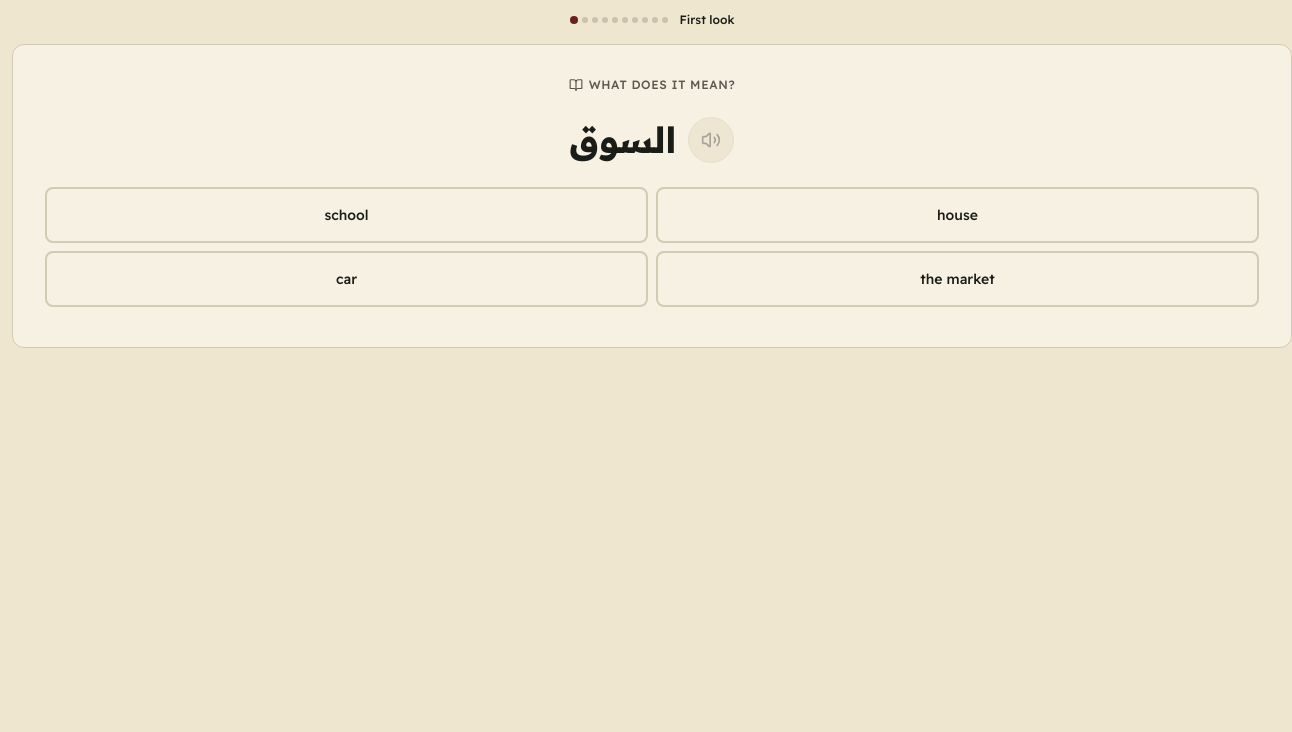
why not this one? › still names the word when either side carries no dialect
What coordinates should you click on to do the following:
click the radio button labelled "school"
I would click on:
 (346, 215)
Its box is left=45, top=187, right=648, bottom=243.
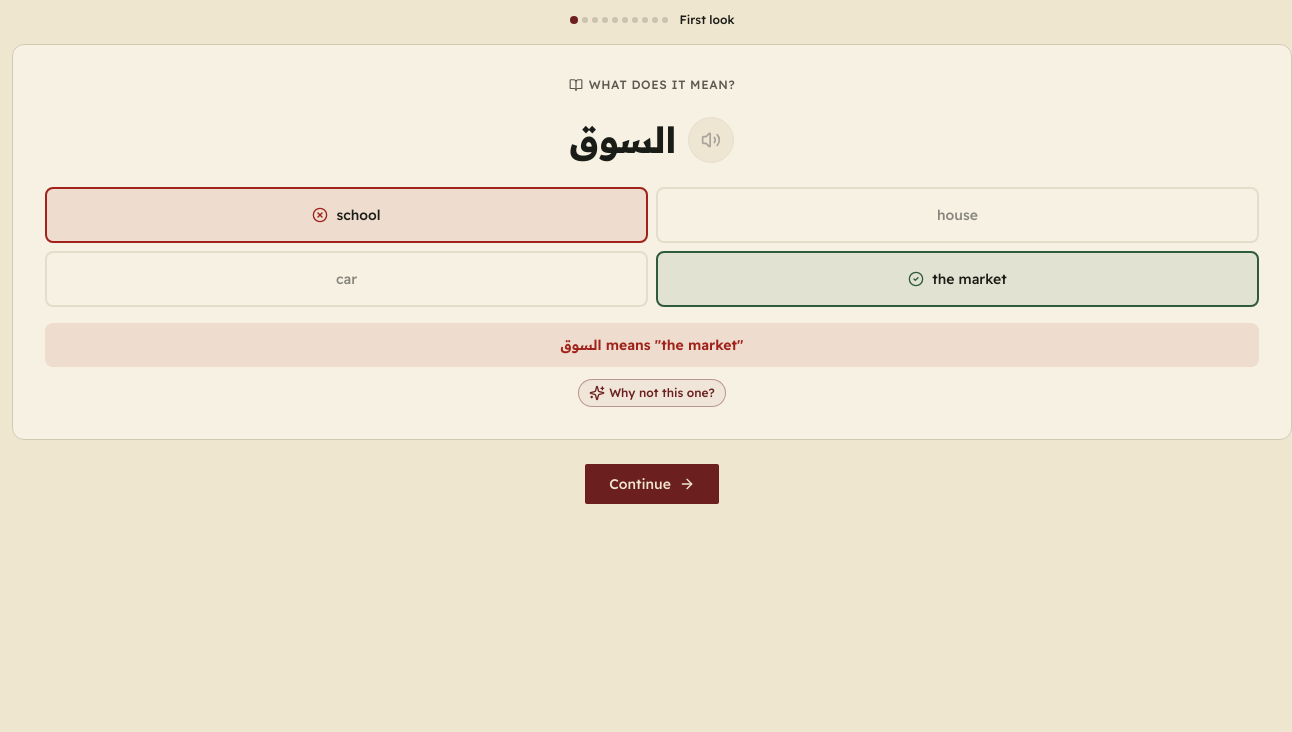
What coordinates should you click on to do the following:
click the button "Why not this one?"
I would click on:
 (652, 393)
Its box is left=578, top=379, right=726, bottom=407.
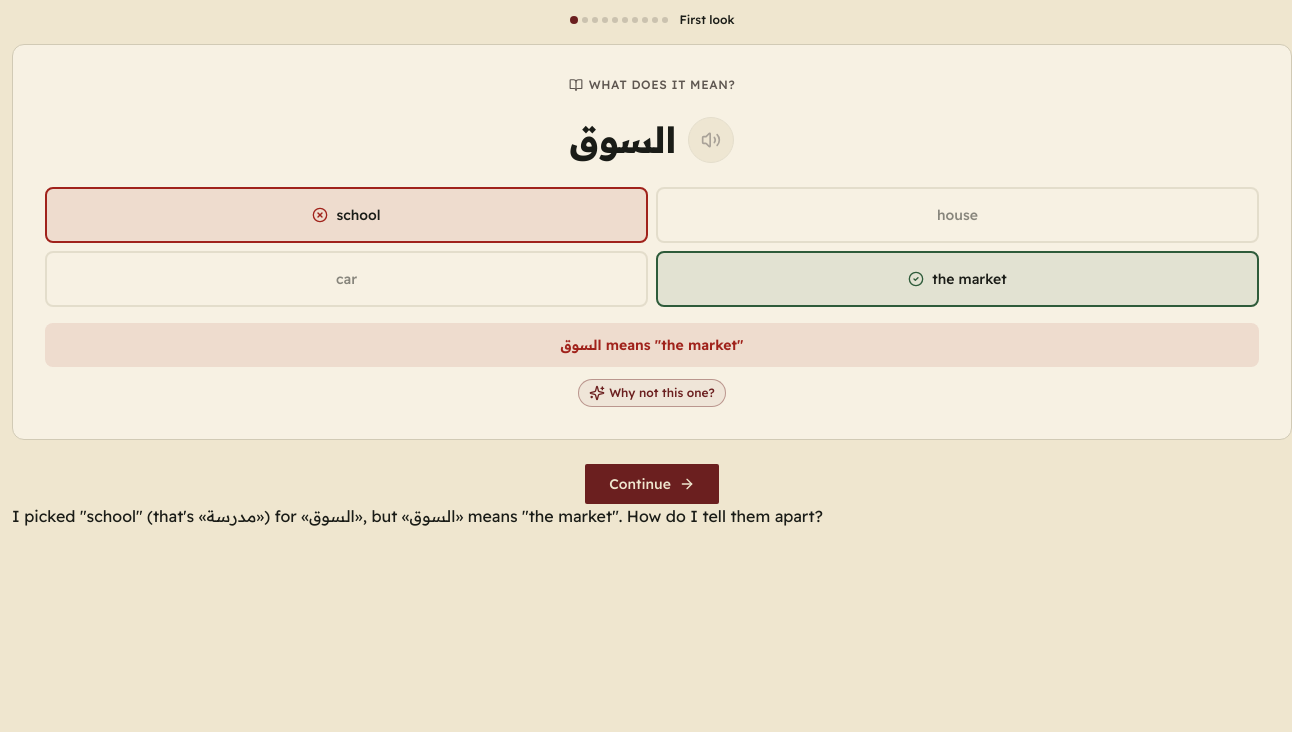
Expected: the text with test id "asked" shows "(that's «مدرسة»)", left=12, top=506, right=823, bottom=526
